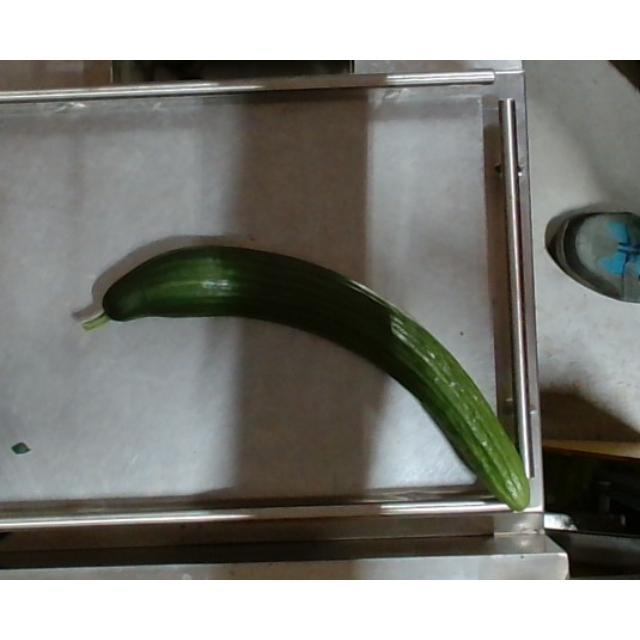cucumber: (85, 250, 532, 512)
